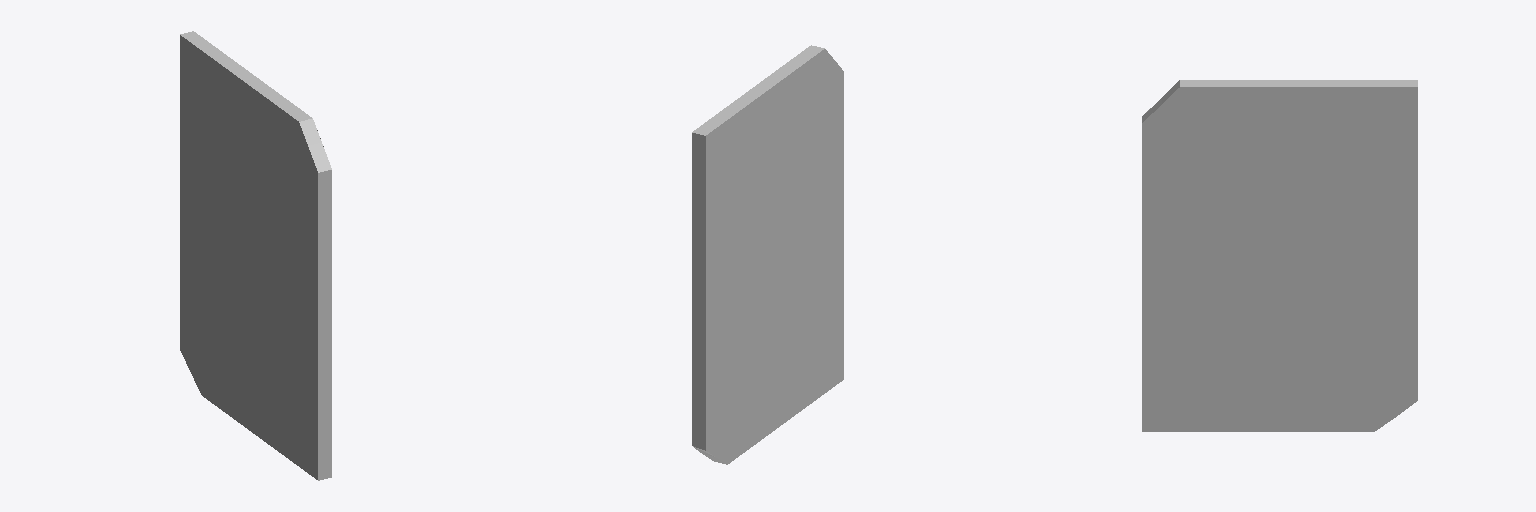
The model's file is keycard.obj.
The picture shows the model from 3 angles: view 1: azimuth 30°, elevation 25°; view 2: azimuth 150°, elevation 25°; view 3: azimuth 270°, elevation 25°; orthographic projection.
Parts seen in each view (by area): view 1: Cube.001; view 2: Cube.001; view 3: Cube.001.
Boxes of the visible parts, <box> form: Cube.001: <box>180,31,331,480</box>; Cube.001: <box>692,45,843,464</box>; Cube.001: <box>1142,80,1417,431</box>.
Size of the model in its own units: 0.117 by 2.75 by 2.